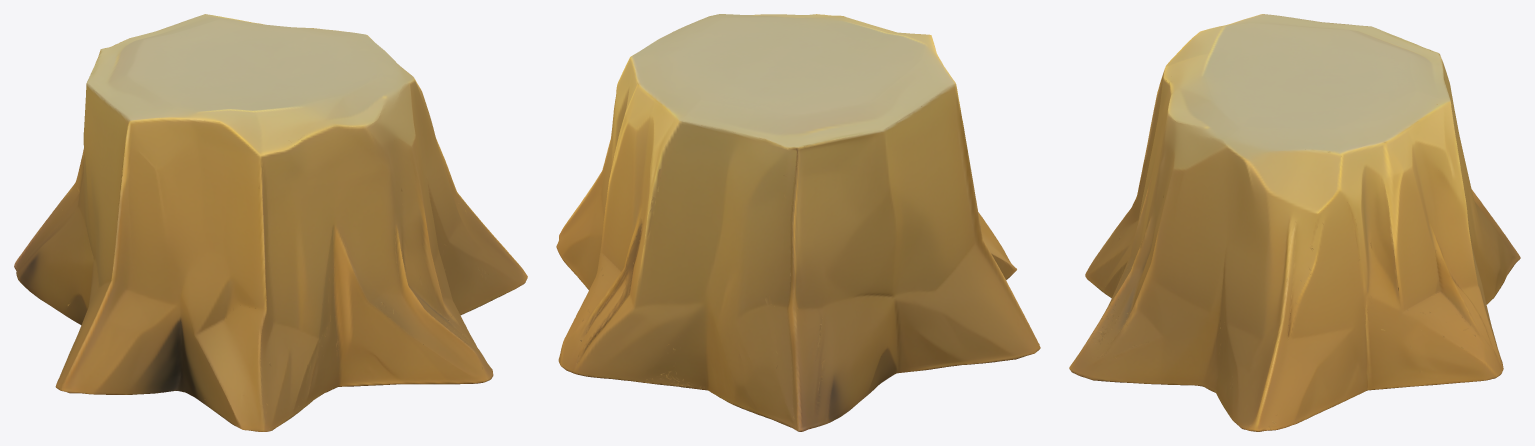
File: base_basic_shaded.fbx
3 renders of one model, left to right at view 1: azimuth 30°, elevation 25°; view 2: azimuth 150°, elevation 25°; view 3: azimuth 270°, elevation 25°, orthographic. The views are drawn at different scales.
Visible parts, largest first — view 1: geometry_0; view 2: geometry_0; view 3: geometry_0.
Part boxes in pixels (x1,y1,x2,y2): geometry_0: (14, 14, 527, 431); geometry_0: (556, 14, 1040, 431); geometry_0: (1069, 14, 1520, 431).
Size of the model in its own units: 190 by 105 by 166.
